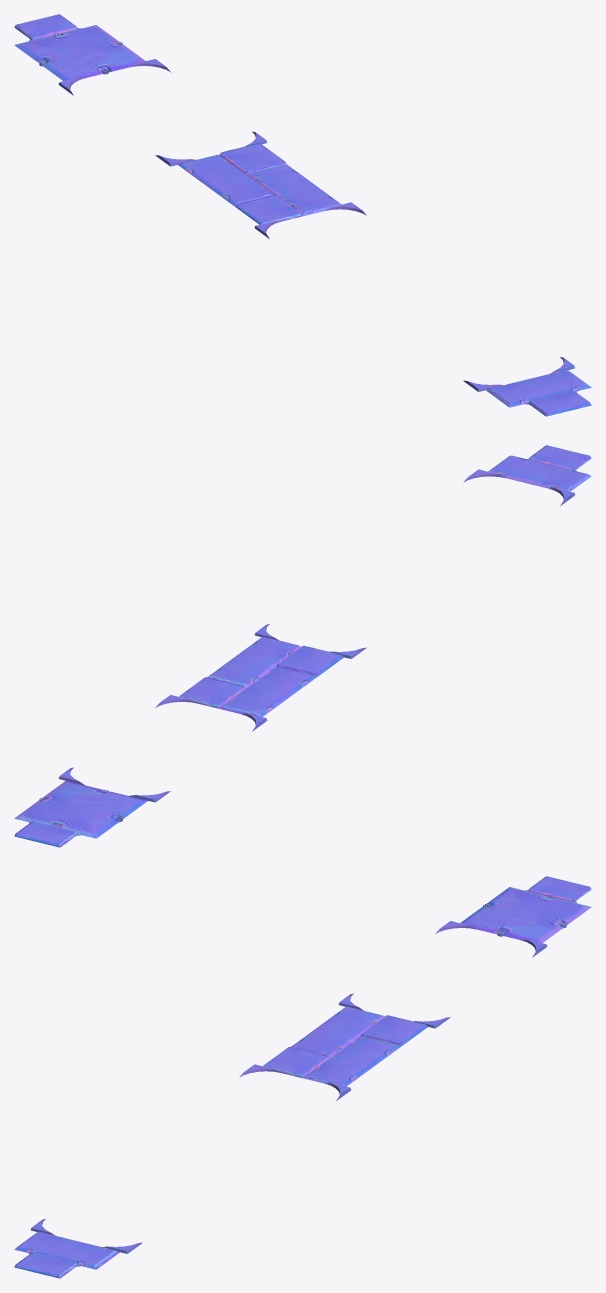
File: Building_B_Room_A_Floor_E.fbx
3 renders of one model, top to bottom at view 1: azimuth 30°, elevation 25°; view 2: azimuth 150°, elevation 25°; view 3: azimuth 330°, elevation 25°, orthographic.
Parts seen in each view (by area): view 1: Geom_Building_B_Room_A_Floor_E_LOD00; view 2: Geom_Building_B_Room_A_Floor_E_LOD00; view 3: Geom_Building_B_Room_A_Floor_E_LOD00.
Part boxes in pixels (bbox=[...]): Geom_Building_B_Room_A_Floor_E_LOD00: bbox=[14, 14, 591, 416]; Geom_Building_B_Room_A_Floor_E_LOD00: bbox=[14, 445, 591, 847]; Geom_Building_B_Room_A_Floor_E_LOD00: bbox=[14, 876, 591, 1278].
Size of what is drawn, in the model's own units: 400 by 16.28 by 3800.
